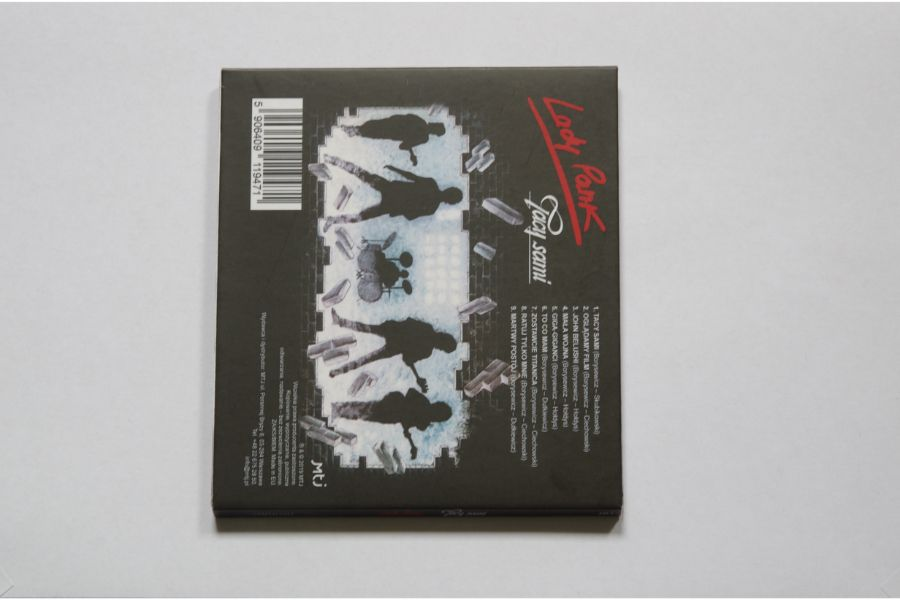album: (211, 67, 624, 517)
